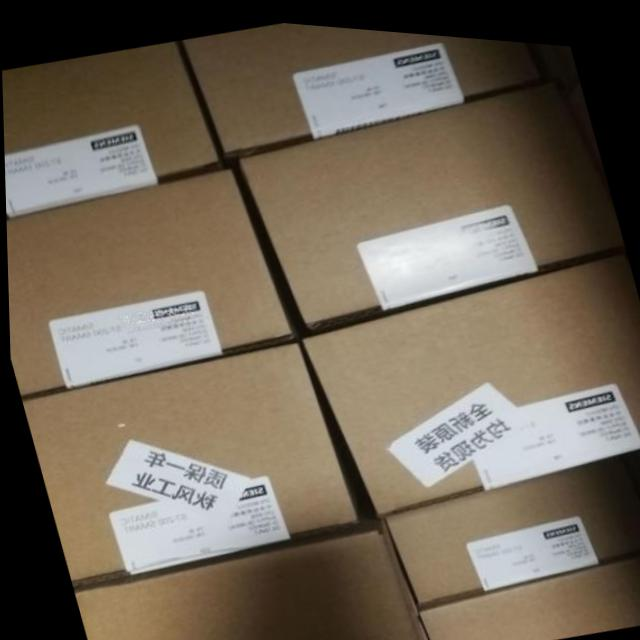box: (234, 70, 624, 327), (297, 238, 640, 512), (20, 330, 375, 586), (5, 156, 299, 399), (183, 18, 547, 156), (70, 516, 426, 640), (377, 442, 640, 604), (2, 38, 224, 216), (414, 545, 640, 640)
